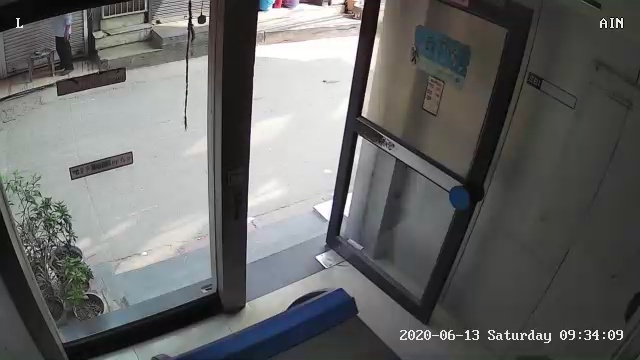open: (202, 2, 539, 329)
